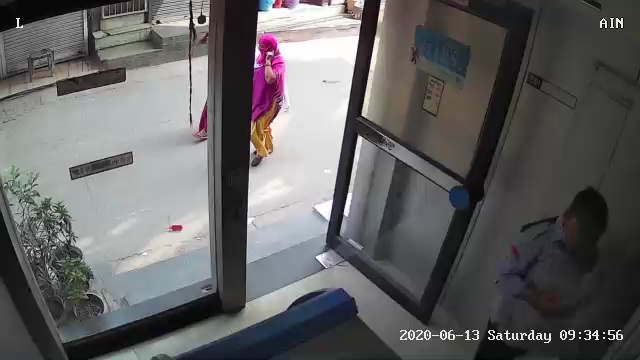open: (188, 2, 542, 340)
